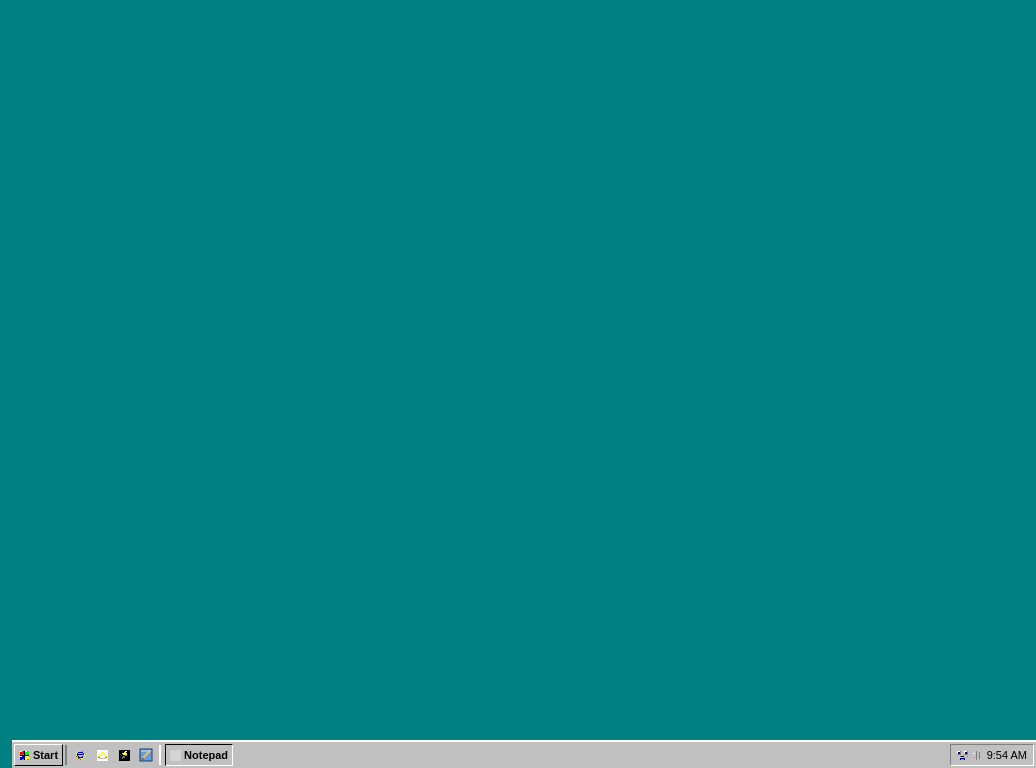
Test: Taskbar context menu › does not open when right-clicking a window-list button (its own menu wins)
The width and height of the screenshot is (1036, 768).
Right-click the button "Notepad".
right_click(199, 755)  # box [165,744,233,766]
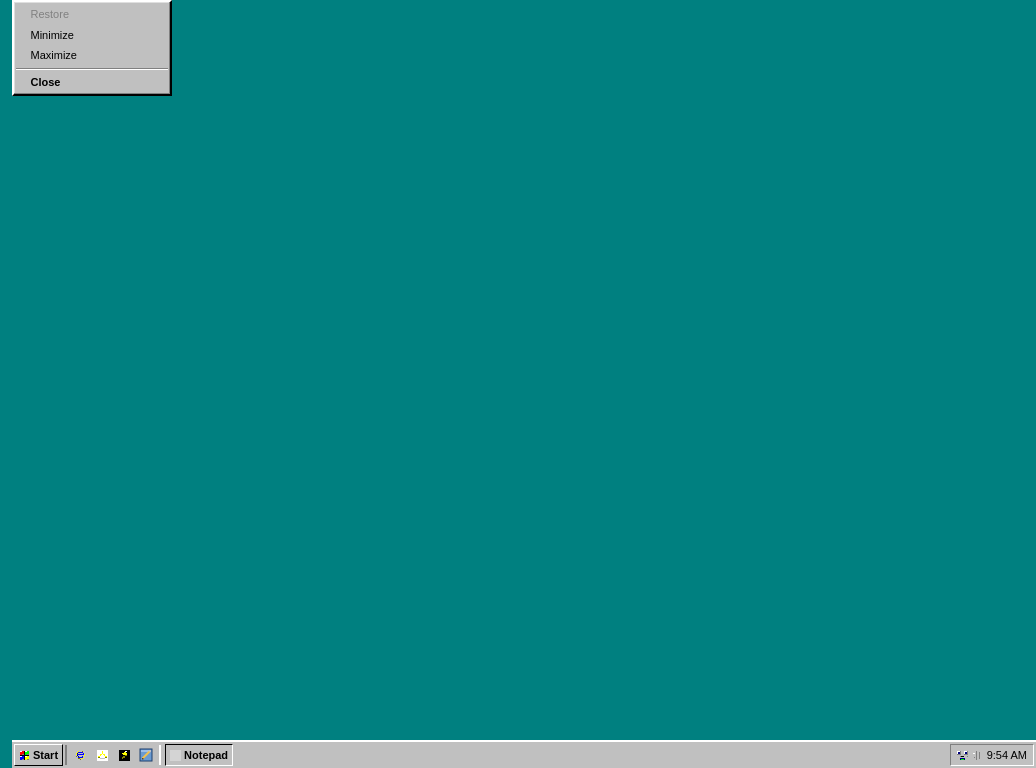
Check: the button "Close" is shown, box [14,72,170,92]
